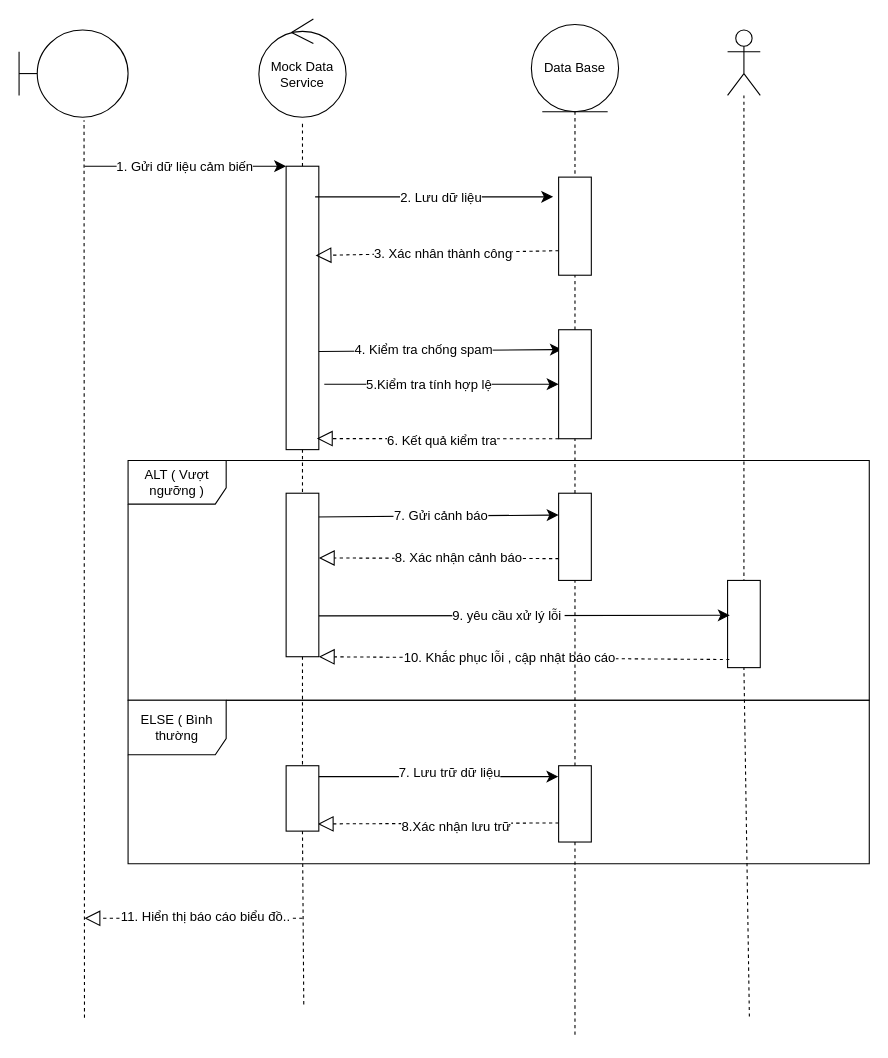
This 888x1058 diagram has some shape labels left out. The shapes that lost their labels are listed below. From the top down, each one's centre as x and y in pixels, then its label:
At (x=73, y=73): "Gateaway IoT".
At (x=743, y=62): "Quality Manager".
